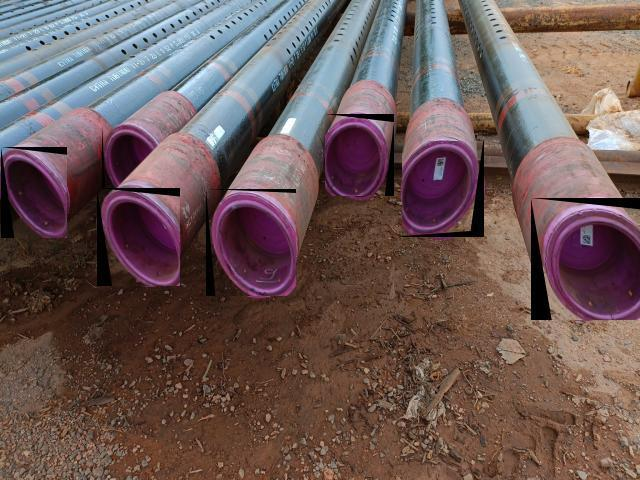pipe: (531, 198, 640, 320), (206, 189, 296, 296), (97, 188, 180, 286), (402, 141, 484, 237), (1, 147, 67, 238), (325, 114, 394, 197), (102, 124, 161, 189)
